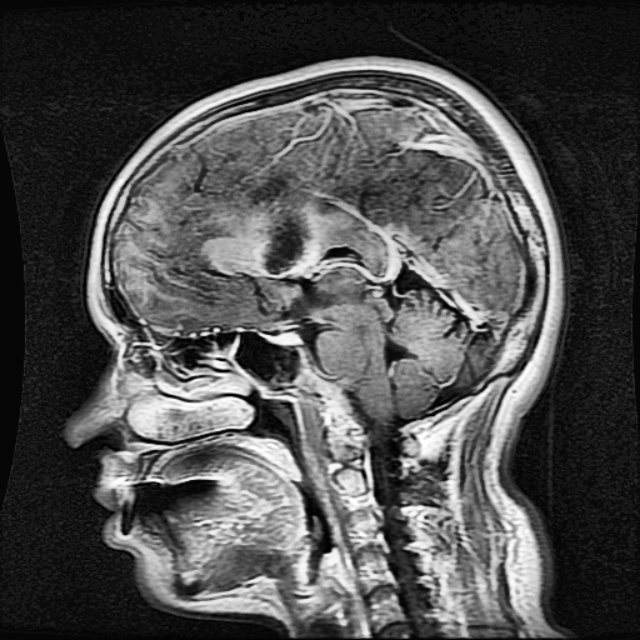Meningioma: (257, 207, 315, 277)
